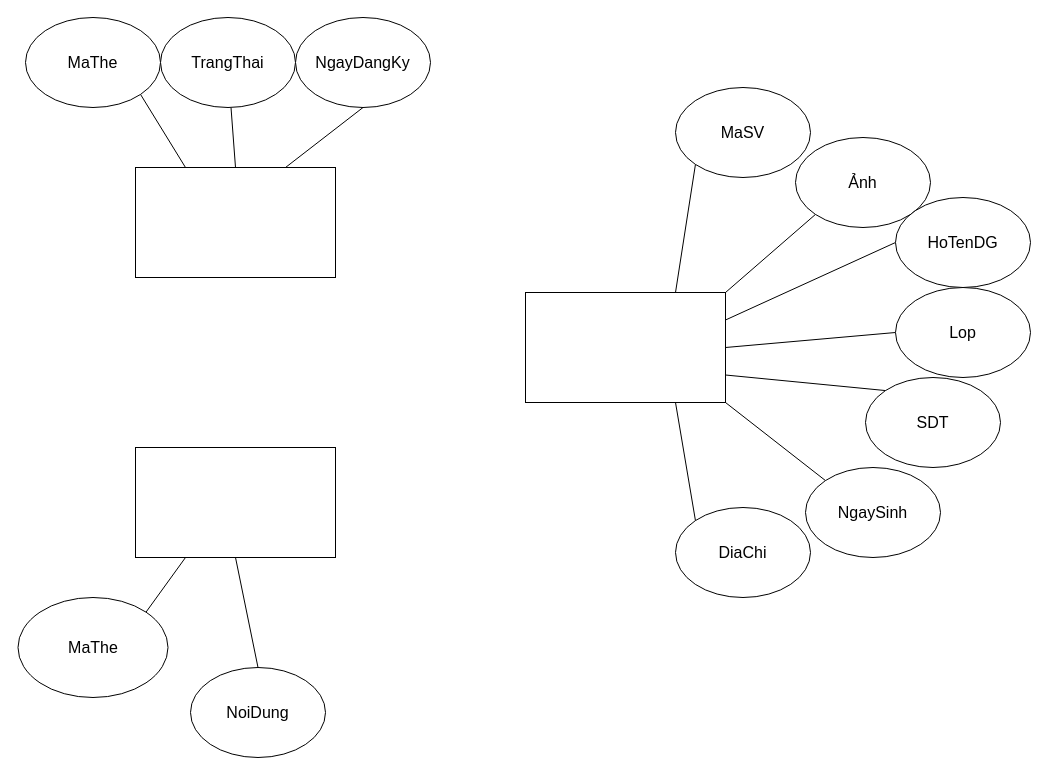
The diagram is 1048 pixels wide and 775 high, and some of its shapes have lost their labels. The centre of each missing label's shape, as x and y in pixels:
DOC GIA: point (625, 347)
THE THU VIEN: point (235, 222)
VI PHAM: point (235, 502)
